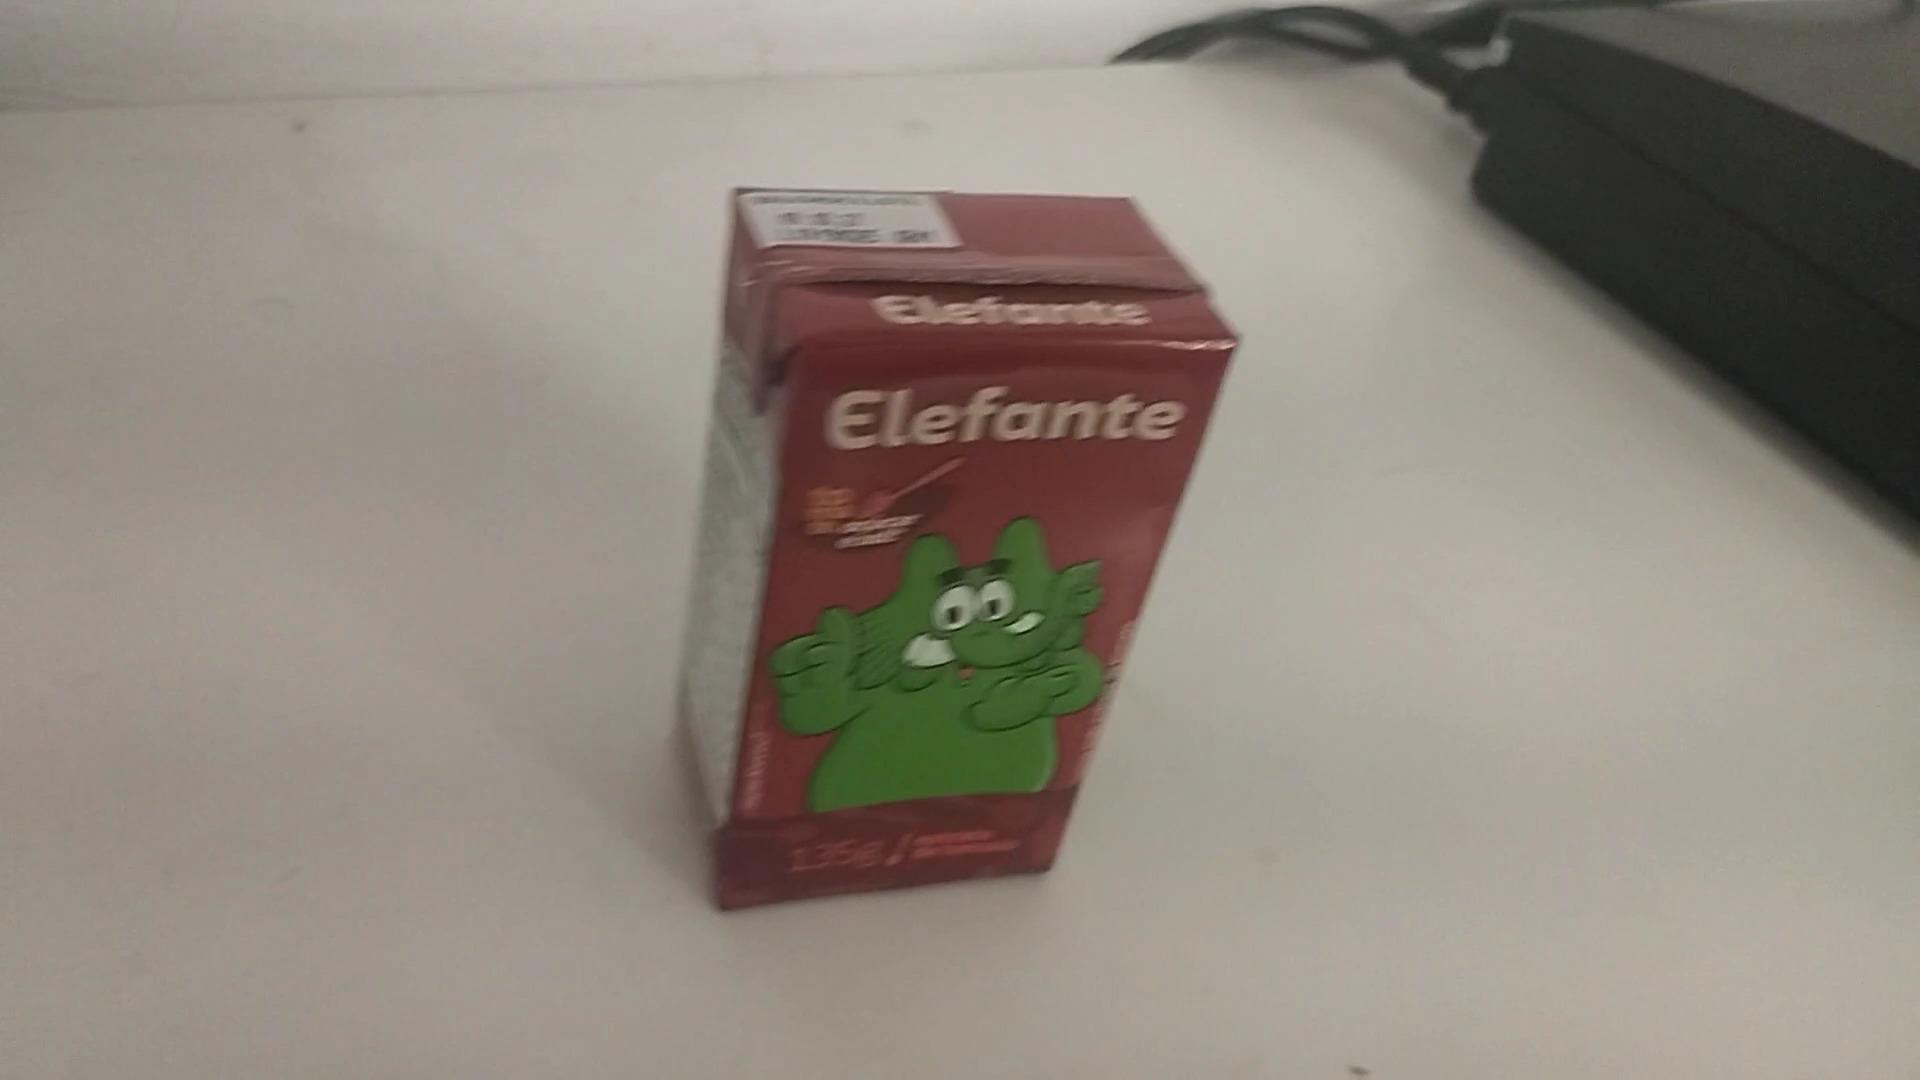tomate: (678, 187, 1244, 918)
